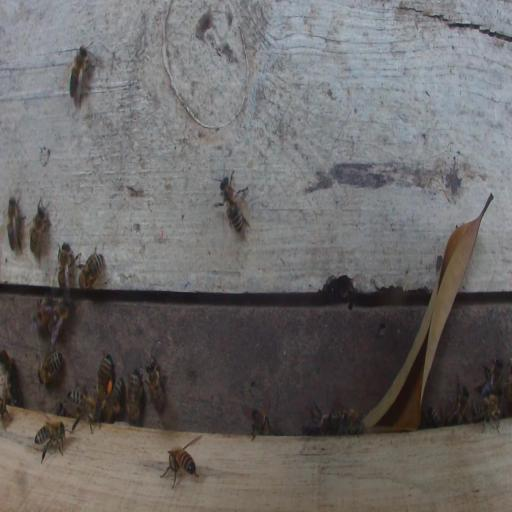bee: (217, 169, 250, 234), (163, 446, 197, 489), (34, 419, 67, 463), (67, 387, 98, 432), (29, 196, 51, 258), (69, 45, 90, 109), (42, 297, 69, 344), (78, 245, 105, 291), (0, 348, 21, 403), (146, 357, 166, 414), (471, 396, 502, 432), (7, 196, 26, 253), (101, 377, 124, 423), (56, 242, 75, 293), (478, 359, 503, 397), (38, 350, 63, 387), (127, 370, 143, 424), (447, 385, 469, 424), (302, 410, 333, 435), (335, 410, 364, 434), (250, 407, 271, 439), (0, 392, 11, 430), (425, 406, 442, 427), (505, 376, 512, 407)
